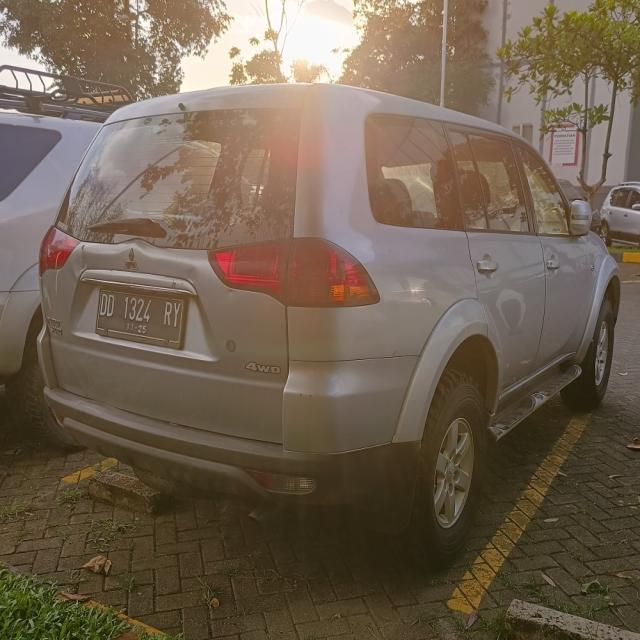plates: (92, 285, 187, 348)
